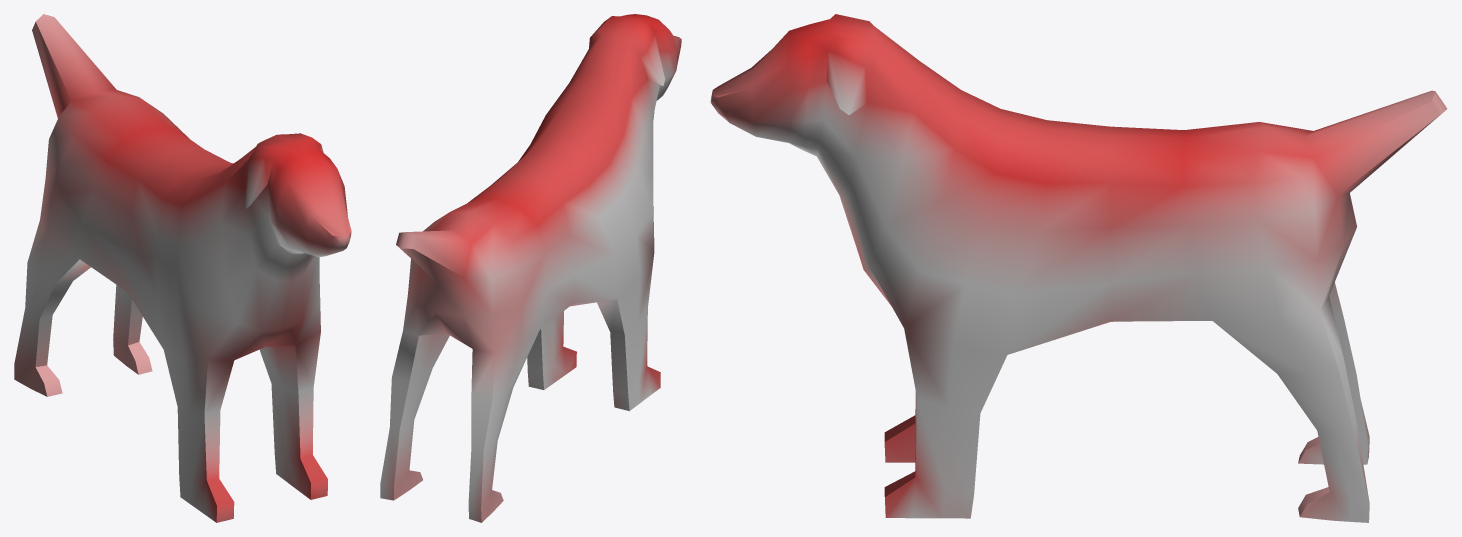
The model's file is WeirdDogThing.fbx.
3 renders of one model, left to right at view 1: azimuth 30°, elevation 25°; view 2: azimuth 150°, elevation 25°; view 3: azimuth 270°, elevation 25°, orthographic. The views are drawn at different scales.
Parts seen in each view (by area): view 1: WeirdDogThing; view 2: WeirdDogThing; view 3: WeirdDogThing.
Boxes of the visible parts, x1,y1,x2,y2 form: WeirdDogThing: (14, 14, 351, 522); WeirdDogThing: (380, 14, 681, 522); WeirdDogThing: (710, 14, 1447, 522).
Size of the model in its own units: 0.2651 by 0.7899 by 1.13.
